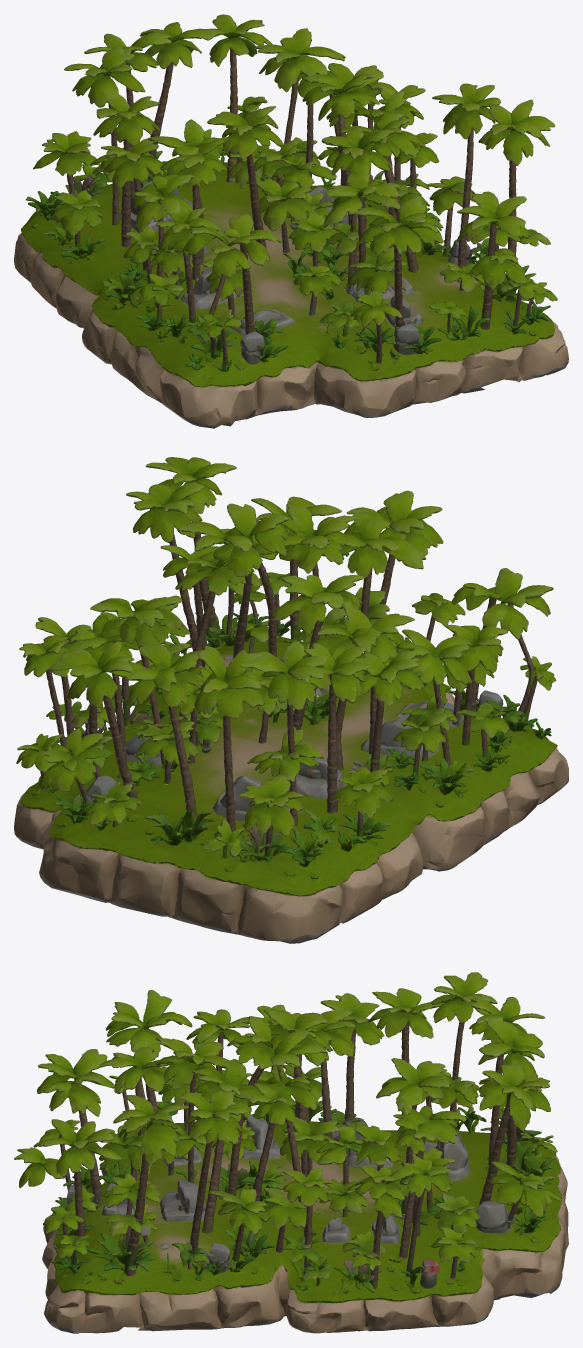
Rendered from Jungle_Island_03.glb.
3 views of the same model, one above another, from view 1: azimuth 30°, elevation 25°; view 2: azimuth 150°, elevation 25°; view 3: azimuth 270°, elevation 25° (orthographic). The views are drawn at different scales.
Visible parts, largest first — view 1: 003; view 2: 003; view 3: 003.
Boxes of the visible parts, box(x1,y1,x2,y2) form: 003: box(14, 14, 568, 428); 003: box(14, 457, 568, 943); 003: box(14, 972, 568, 1333).
Size of the model in its own units: 94.42 by 57.9 by 119.
Materials: 1 (1 with a texture image).
